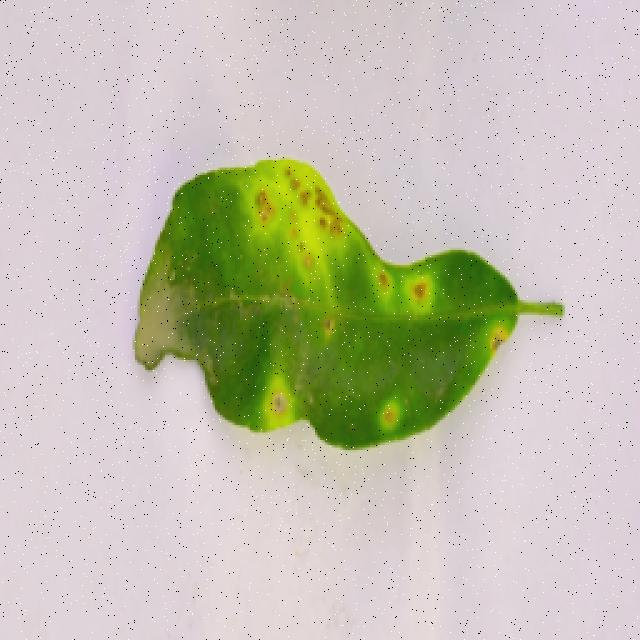canker: (134, 137, 556, 451)
